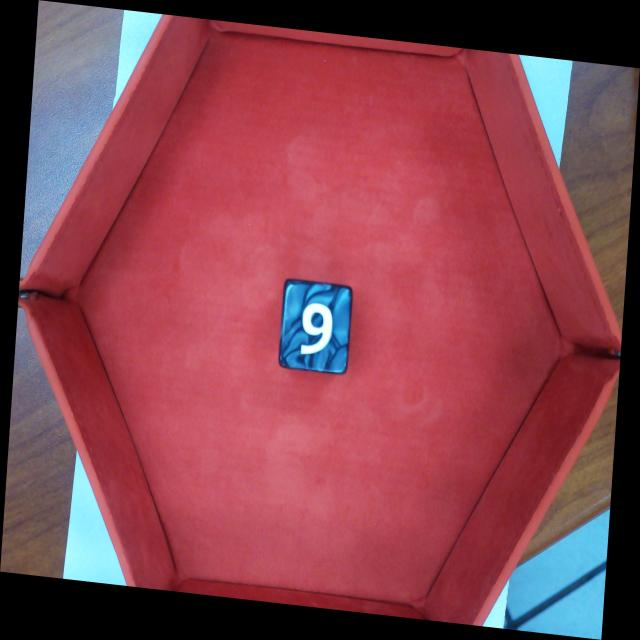dice: (273, 280, 354, 375)
